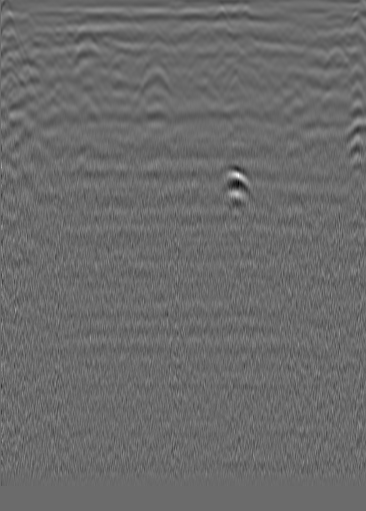가스: (212, 164, 260, 201)
상수: (322, 42, 350, 71)
오수: (1, 9, 30, 56)
우수: (131, 59, 180, 105)
